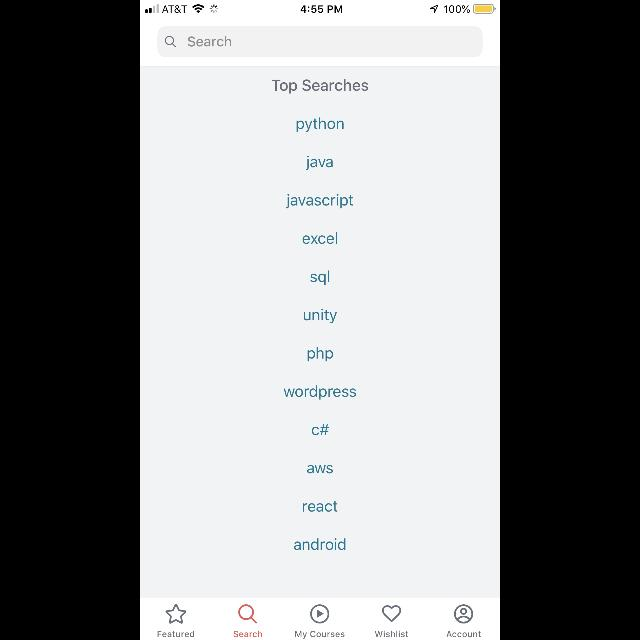icon: (166, 604, 187, 624), (238, 604, 258, 624), (310, 604, 330, 624), (454, 604, 474, 624), (382, 604, 402, 622), (166, 36, 177, 48)
input: (158, 27, 482, 58)
text: (272, 80, 368, 94), (284, 386, 356, 400), (286, 194, 354, 208), (296, 118, 344, 132), (294, 538, 346, 550), (304, 308, 338, 324), (188, 36, 232, 46), (303, 232, 337, 244), (296, 631, 344, 639), (303, 501, 337, 512), (306, 156, 332, 170), (308, 347, 332, 361), (310, 271, 330, 285), (376, 630, 408, 638), (158, 631, 195, 637), (312, 424, 330, 436), (307, 465, 333, 473), (446, 631, 480, 637), (234, 631, 262, 637)
uppertaskbar: (140, 0, 500, 14)
